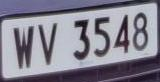3: (68, 11, 93, 68)
4: (113, 8, 132, 60)
5: (90, 10, 114, 59)
8: (130, 7, 149, 58)
V: (36, 19, 61, 71)
W: (10, 21, 38, 75)
